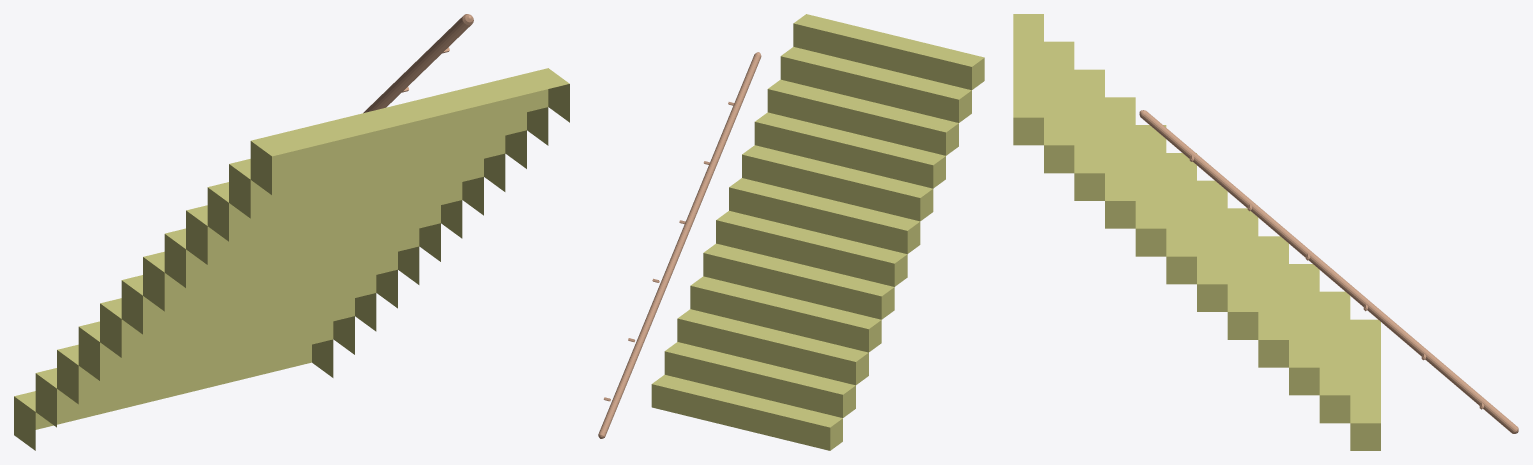
The model's file is StairCase.fbx.
3 renders of one model, left to right at view 1: azimuth 30°, elevation 25°; view 2: azimuth 150°, elevation 25°; view 3: azimuth 270°, elevation 25°, orthographic. The views are drawn at different scales.
Parts seen in each view (by area): view 1: Stairs.002; view 2: Stairs.002; view 3: Stairs.002.
Boxes of the visible parts, left/top/right/bottom form: Stairs.002: left=14, top=14, right=569, bottom=450; Stairs.002: left=598, top=14, right=984, bottom=450; Stairs.002: left=1013, top=14, right=1518, bottom=450.
Bounding box in the file's own units: 4.12 × 3.03 × 2.06.
